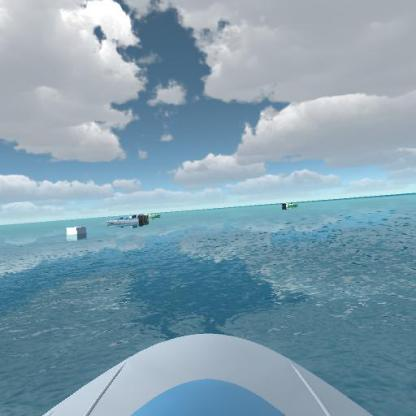usv0: (278, 198, 303, 214), (142, 204, 164, 221)
usv1: (104, 207, 154, 231)
